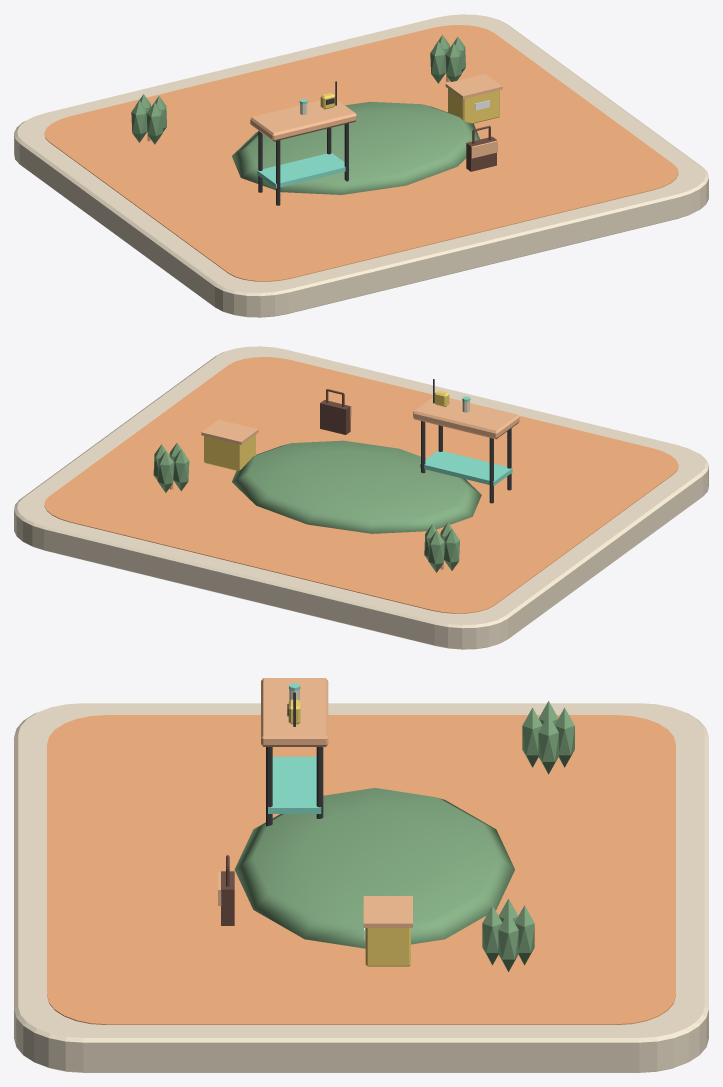
3 views of the same model, one above another, from view 1: azimuth 30°, elevation 25°; view 2: azimuth 150°, elevation 25°; view 3: azimuth 270°, elevation 25° (orthographic). The views are drawn at different scales.
Visible parts, largest first — view 1: COM-02 Floor Surface, COM-01 Rounded Base Direct, Low terrain, Worktop, Lower shelf, Box, Bag, Lid, Leaf.003, Leaf.002, Leaf.006, Leaf.007; view 2: COM-02 Floor Surface, COM-01 Rounded Base Direct, Low terrain, Worktop, Lower shelf, Box, Bag, Lid, Leaf.005, Leaf.001, Leaf.002, Leaf.006; view 3: COM-02 Floor Surface, COM-01 Rounded Base Direct, Low terrain, Worktop, Lower shelf, Box, Lid, Bag, Leaf, Leaf.004, Leaf.005, Leaf.007 (+2 smaller).
Boxes of the visible parts, x1,y1,x2,y2 form: COM-02 Floor Surface: (44,25,678,281); COM-01 Rounded Base Direct: (14,14,708,317); Low terrain: (232,101,480,194); Worktop: (250,100,356,141); Lower shelf: (257,153,349,188); Box: (448,88,499,123); Bag: (466,125,497,171); Lid: (445,74,502,99); Leaf.003: (146,102,162,144); Leaf.002: (131,100,147,142); Leaf.006: (430,41,446,83); Leaf.007: (445,43,461,81); COM-02 Floor Surface: (44,357,678,613); COM-01 Rounded Base Direct: (14,346,708,649); Low terrain: (232,440,481,533); Worktop: (413,397,519,439); Lower shelf: (420,450,512,485); Box: (204,434,255,470); Bag: (320,389,351,434); Lid: (201,419,258,444); Leaf.005: (157,451,173,492); Leaf.001: (428,531,444,572); Leaf.002: (444,529,459,570); Leaf.006: (173,449,189,491); COM-02 Floor Surface: (47,715,675,1024); COM-01 Rounded Base Direct: (14,703,708,1072); Low terrain: (234,788,514,948); Worktop: (261,678,328,746); Lower shelf: (268,756,321,813); Box: (365,928,410,966); Lid: (363,896,412,927); Bag: (218,855,234,925); Leaf: (538,714,558,774); Leaf.004: (498,912,518,971); Leaf.005: (514,905,534,965); Leaf.007: (482,905,502,965).
Size of the model in its own units: 6 by 1.48 by 5.2.
Materials: 1 (1 with a texture image).
